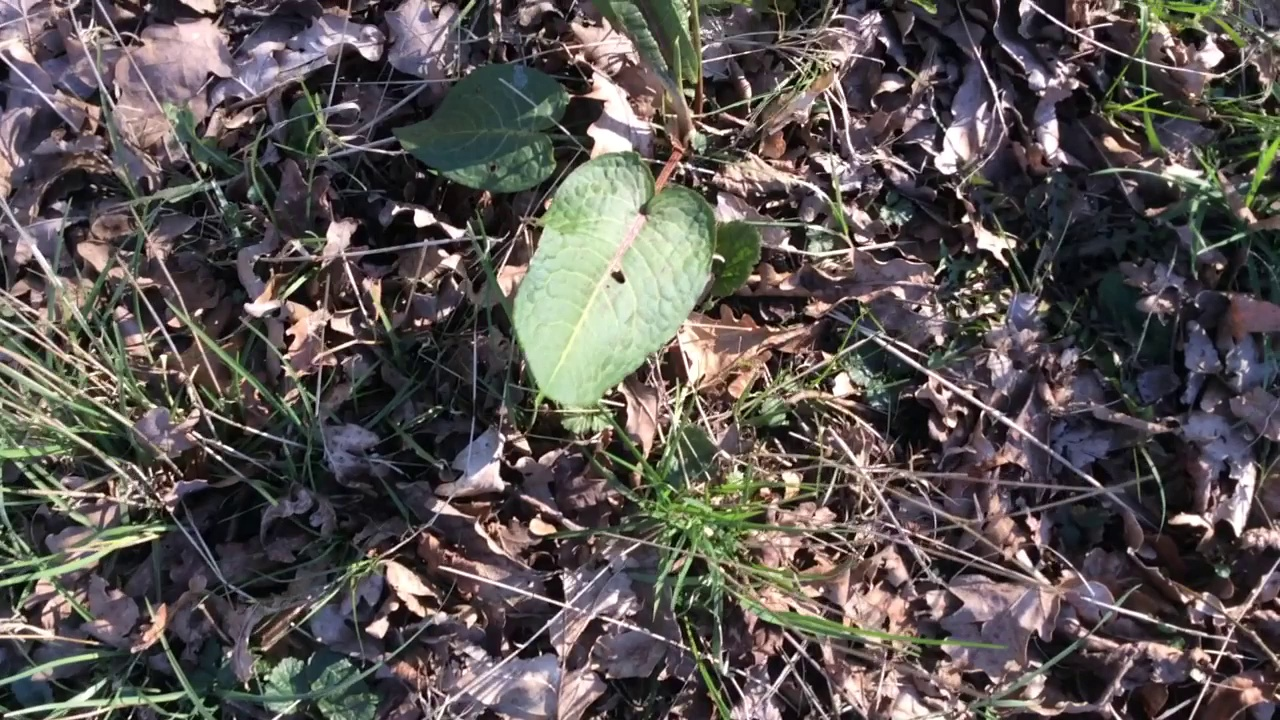rumex: (396, 62, 763, 409)
